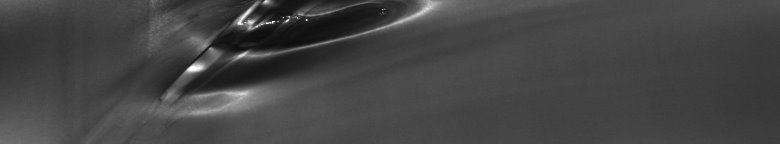ke: (159, 4, 437, 124)
